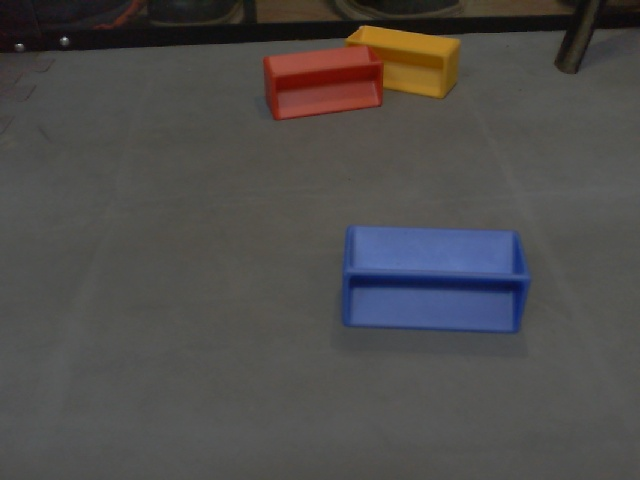BlueSample: (340, 222, 534, 336)
RedSample: (261, 44, 386, 122)
YellowSample: (344, 23, 463, 100)
